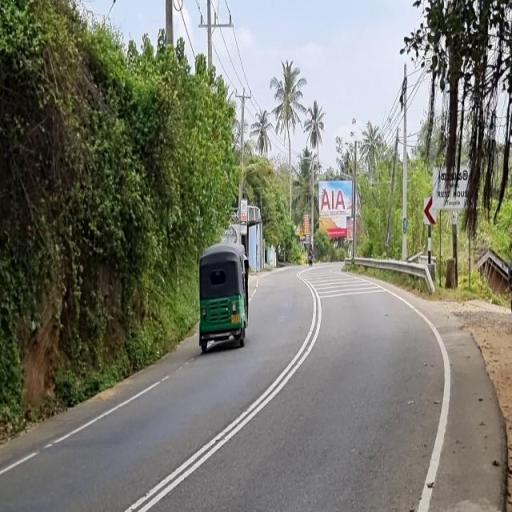double_white_line: (125, 281, 323, 511)
